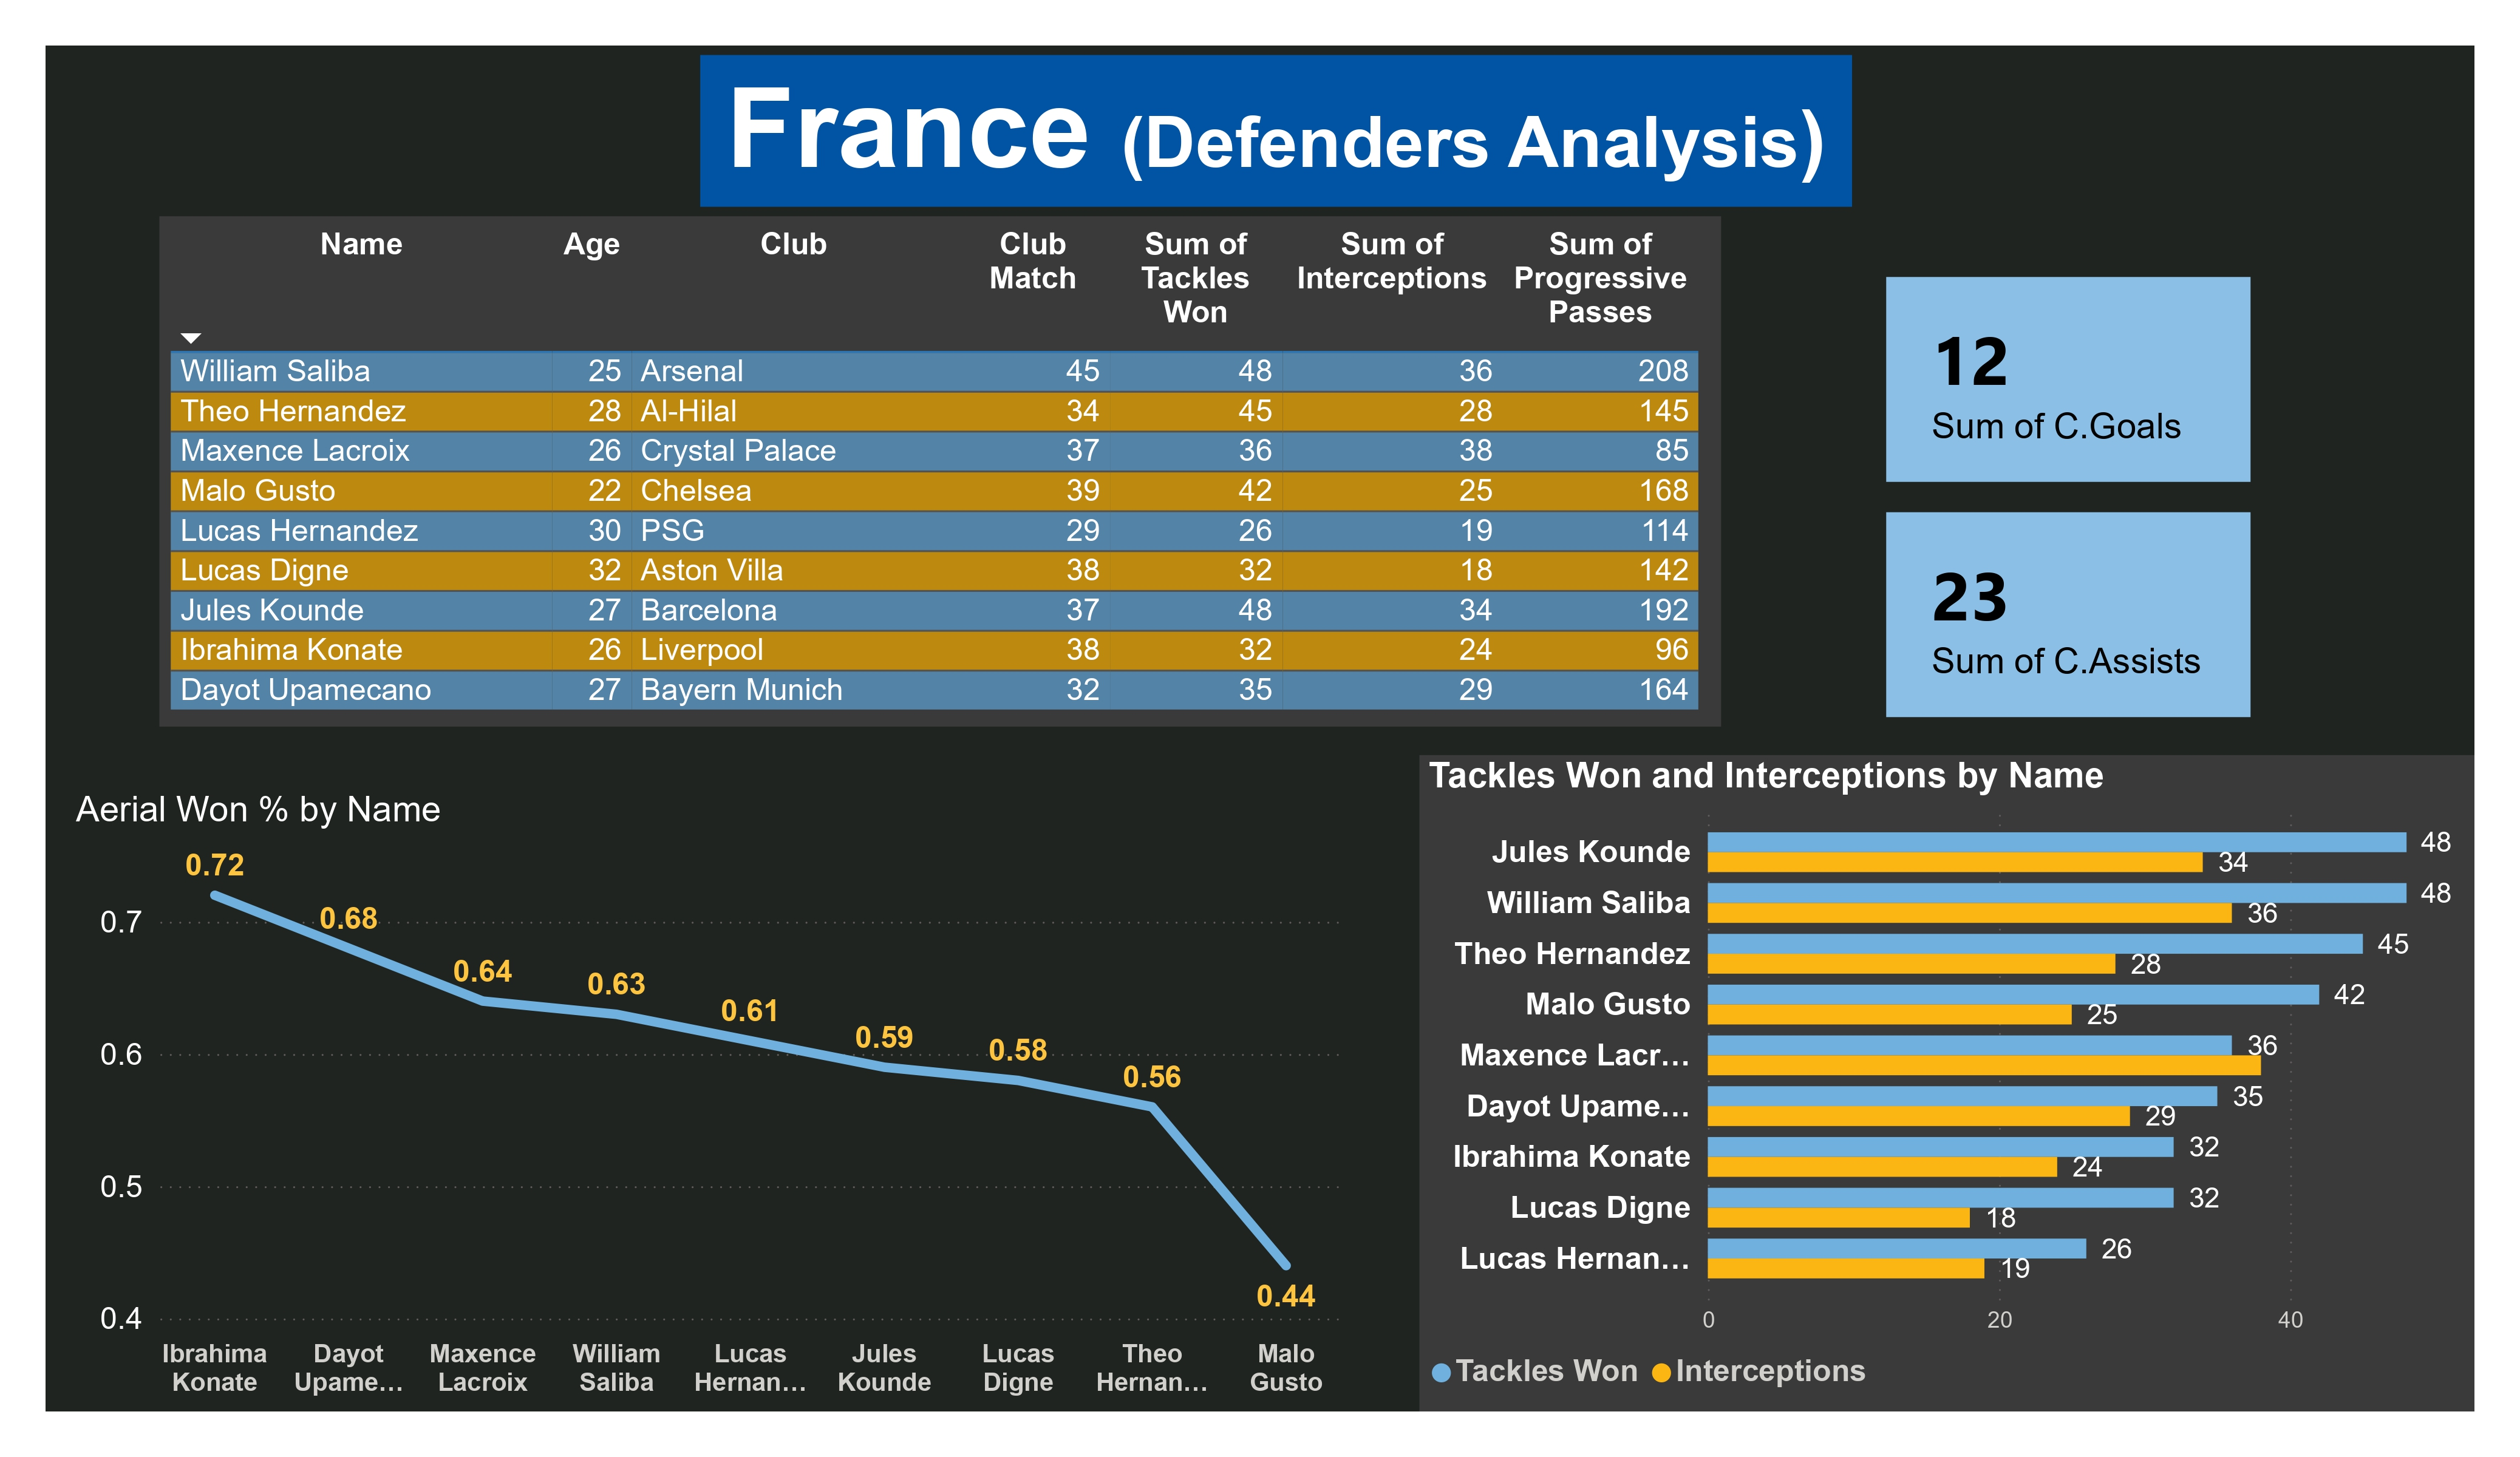

The page's visual inventory and layout, read from the dashboard file:
{"tool":"powerbi","page":{"name":"Defenders","canvas":[1280,720],"ordinal":2},"visuals":[{"type":"slicer","fields":{"Values":["Sheet1.Position"]},"box":[995.9,522.4,246.5,181.2],"z":0},{"type":"lineChart","fields":{"Category":["Sheet1.Name"],"Y":["Sum(Sheet1.Aerial Won %)"]},"box":[11,392.1,681,327.9],"z":1000},{"type":"cardVisual","fields":{"Data":["Sum(Sheet1.C.Goals)"]},"box":[964.7,116.7,201.8,118.2],"z":2000},{"type":"cardVisual","fields":{"Data":["Sum(Sheet1.C.Assists)"]},"box":[964.7,241.2,201.8,118.2],"z":3000},{"type":"clusteredBarChart","fields":{"Category":["Sheet1.Name"],"Y":["Sum(Sheet1.Tackles Won)","Sum(Sheet1.Interceptions)"]},"box":[723.5,373.6,556.5,346.8],"z":4000},{"type":"tableEx","fields":{"Values":["Sheet1.Name","Sheet1.Age","Sheet1.Club","Sheet1.Club Match","Sum(Sheet1.Tackles Won)","Sum(Sheet1.Interceptions)","Sum(Sheet1.Progressive Passes )"]},"box":[59.9,89.9,822.9,269.6],"z":5000},{"type":"textbox","box":[345.2,4.7,606.9,80.4],"z":6000}]}

Visuals, with their boxes on the page's 1280x720 design canvas (x1, y1, x2, y2). These are canvas units, not pixel positions in the 2520x1457 screenshot, which may show the page scaled, cropped or inside an application window:
slicer - Sheet1.Position: 996 522 1242 704
lineChart - Sheet1.Name x Sum(Sheet1.Aerial Won %): 11 392 692 720
cardVisual - Sum(Sheet1.C.Goals): 965 117 1166 235
cardVisual - Sum(Sheet1.C.Assists): 965 241 1166 359
clusteredBarChart - Sheet1.Name x Sum(Sheet1.Tackles Won): 724 374 1280 720
tableEx - Sheet1.Name x Sheet1.Age: 60 90 883 360
textbox: 345 5 952 85
